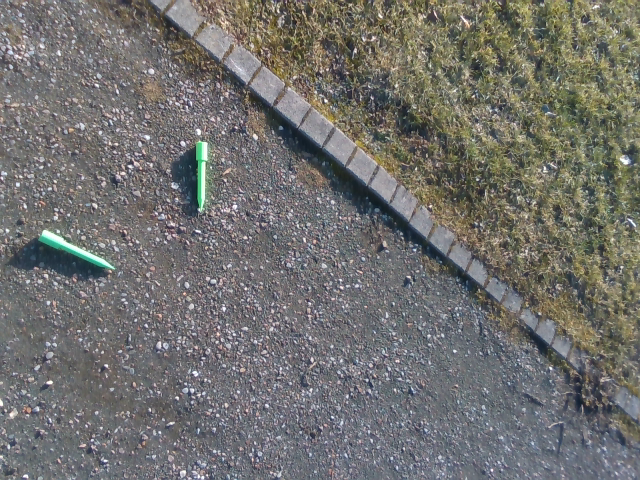Probe: (32, 226, 118, 274), (192, 137, 212, 215)
